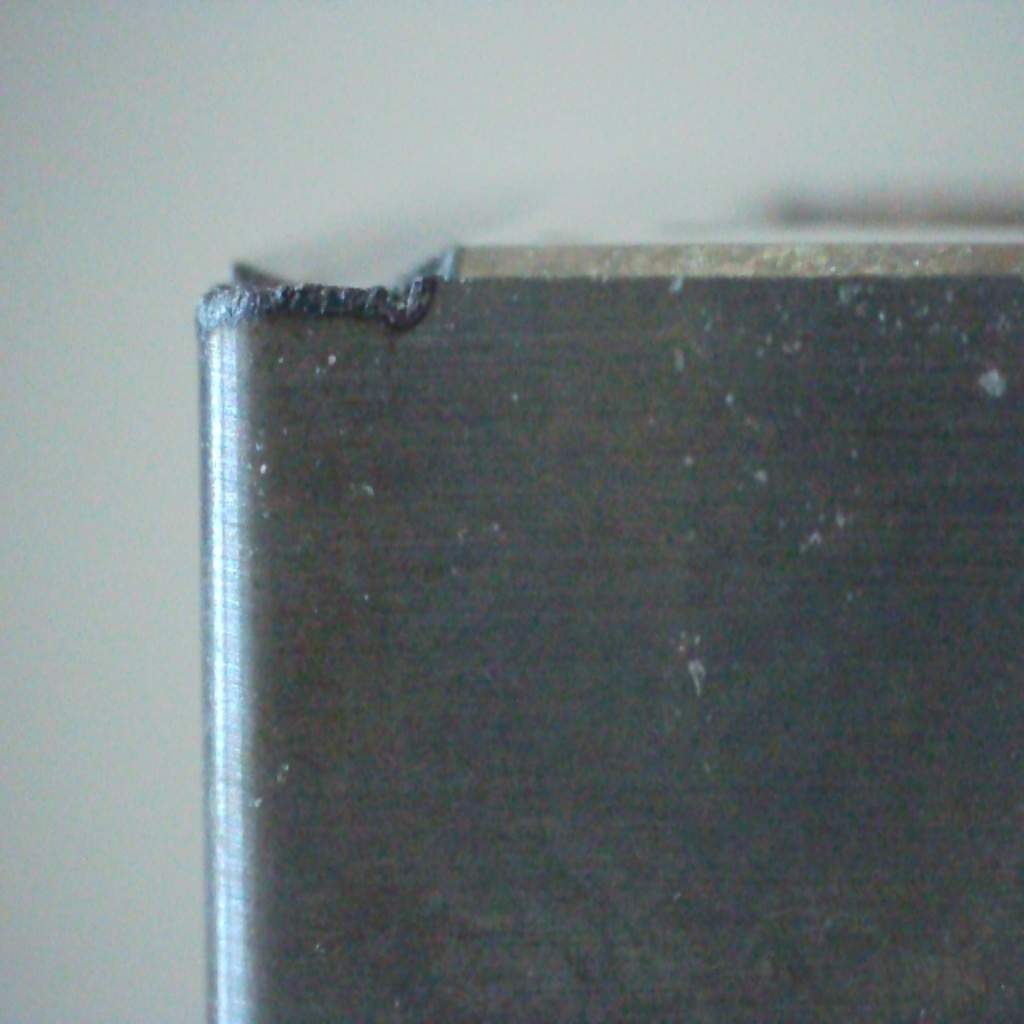flank_wear: (182, 266, 454, 346)
